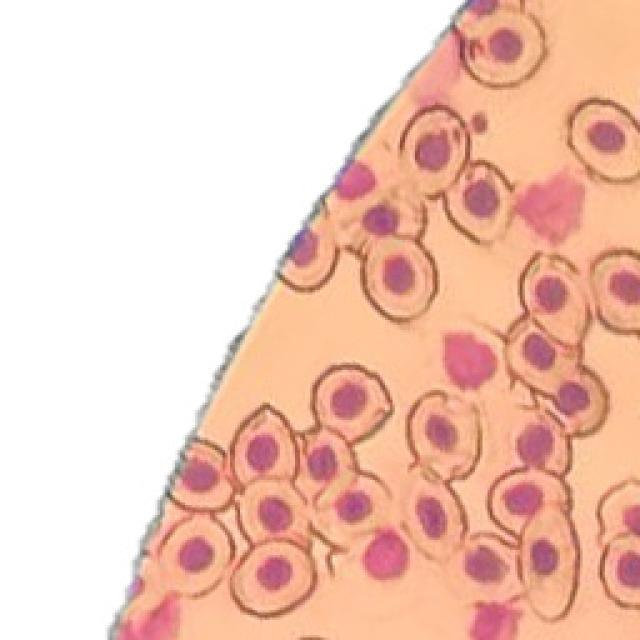RBC: (455, 1, 546, 88), (324, 134, 404, 227), (520, 502, 579, 619), (409, 391, 480, 481), (231, 540, 315, 616), (400, 105, 469, 197), (311, 470, 390, 550), (521, 254, 589, 346), (312, 365, 391, 444), (362, 236, 436, 320), (506, 316, 580, 397), (159, 514, 232, 596), (569, 100, 640, 182), (404, 468, 466, 561), (346, 187, 427, 256), (489, 468, 569, 536), (444, 161, 511, 242), (231, 405, 298, 485), (446, 535, 521, 602), (238, 479, 308, 547), (170, 440, 234, 511), (296, 429, 358, 502), (280, 215, 339, 289), (591, 250, 640, 332), (552, 366, 608, 435), (515, 411, 570, 475), (601, 532, 640, 608), (599, 480, 640, 546)
WBC: (515, 172, 584, 244), (444, 332, 496, 389), (362, 529, 409, 579), (470, 602, 520, 640)
